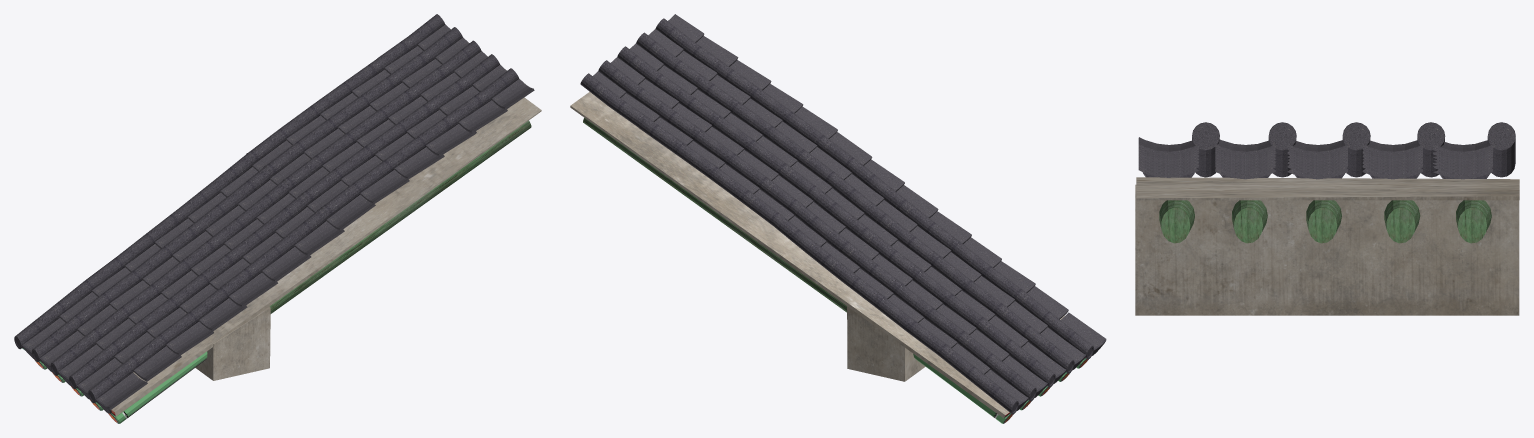
Rendered from SM_Roof_16.fbx.
3 renders of one model, left to right at view 1: azimuth 30°, elevation 25°; view 2: azimuth 150°, elevation 25°; view 3: azimuth 270°, elevation 25°, orthographic. The views are drawn at different scales.
Visible parts, largest first — view 1: SM_Roof_16; view 2: SM_Roof_16; view 3: SM_Roof_16.
Boxes of the visible parts, left/top/right/bottom form: SM_Roof_16: left=14, top=14, right=541, bottom=423; SM_Roof_16: left=570, top=14, right=1106, bottom=423; SM_Roof_16: left=1135, top=122, right=1519, bottom=315.
Size of the model in its own units: 549 by 211 by 303.
Materials: 5 (5 with a texture image).
